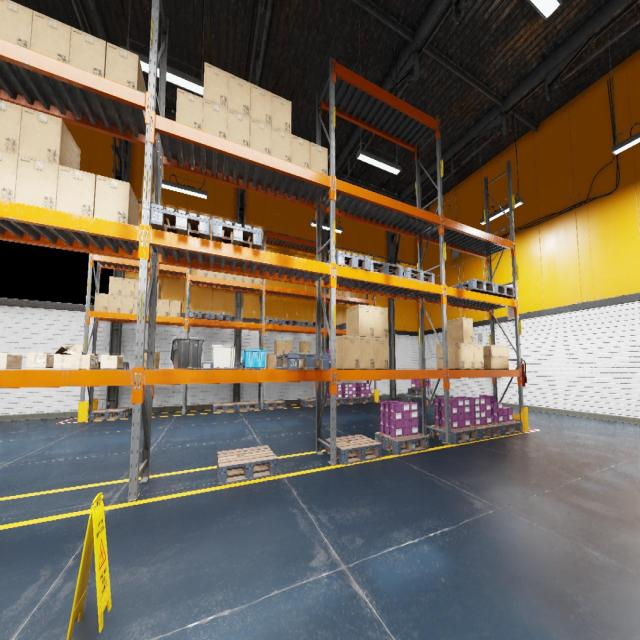box: (19, 106, 80, 170), (14, 155, 58, 209), (94, 175, 139, 226), (30, 11, 71, 63), (105, 42, 146, 93), (56, 165, 96, 217), (69, 27, 107, 77), (0, 0, 33, 49), (0, 100, 22, 154), (203, 61, 228, 108), (176, 88, 203, 130), (202, 99, 228, 139), (228, 73, 250, 117), (0, 150, 18, 201), (250, 84, 272, 125), (227, 108, 250, 147), (346, 304, 374, 336), (250, 118, 271, 155), (272, 93, 291, 133), (336, 336, 359, 368), (436, 342, 464, 368), (271, 126, 291, 162), (53, 345, 83, 368), (291, 134, 310, 169), (447, 318, 473, 343), (483, 345, 509, 368), (310, 142, 327, 174), (374, 338, 389, 368), (374, 306, 388, 338), (360, 336, 374, 368), (26, 353, 54, 368), (72, 353, 98, 369), (0, 353, 22, 369), (100, 355, 124, 369), (94, 292, 108, 312), (464, 343, 474, 369), (144, 352, 160, 368), (147, 281, 161, 299), (120, 296, 134, 314), (121, 278, 135, 296), (109, 276, 122, 295), (474, 344, 484, 368), (108, 294, 121, 312), (169, 300, 182, 317), (158, 299, 170, 316), (147, 300, 158, 316), (266, 354, 277, 368), (274, 340, 285, 354), (299, 342, 310, 354), (285, 340, 292, 353), (197, 269, 207, 277), (207, 271, 217, 278), (134, 297, 138, 313), (134, 280, 138, 296), (217, 272, 226, 279), (245, 276, 253, 283), (236, 275, 244, 282), (227, 274, 236, 280), (254, 278, 262, 284), (149, 246, 151, 262)
pallets: (217, 446, 277, 485), (150, 204, 210, 239), (325, 434, 382, 464), (212, 218, 262, 250), (322, 250, 371, 276), (374, 432, 428, 455), (429, 425, 480, 444), (276, 353, 330, 369), (459, 423, 502, 440), (450, 278, 495, 294), (361, 260, 403, 277), (402, 268, 434, 284), (492, 420, 522, 436), (89, 408, 129, 420), (486, 284, 515, 298), (213, 402, 237, 412), (236, 401, 259, 411), (189, 310, 210, 320), (300, 398, 323, 407), (263, 400, 286, 409), (98, 362, 129, 368), (211, 312, 230, 321), (408, 388, 432, 395), (215, 362, 238, 368), (282, 319, 301, 326), (322, 398, 344, 404), (240, 362, 260, 368), (342, 397, 359, 404), (265, 318, 282, 324), (300, 321, 316, 327), (200, 362, 213, 369), (356, 397, 374, 402), (337, 323, 346, 329), (329, 364, 330, 368)
